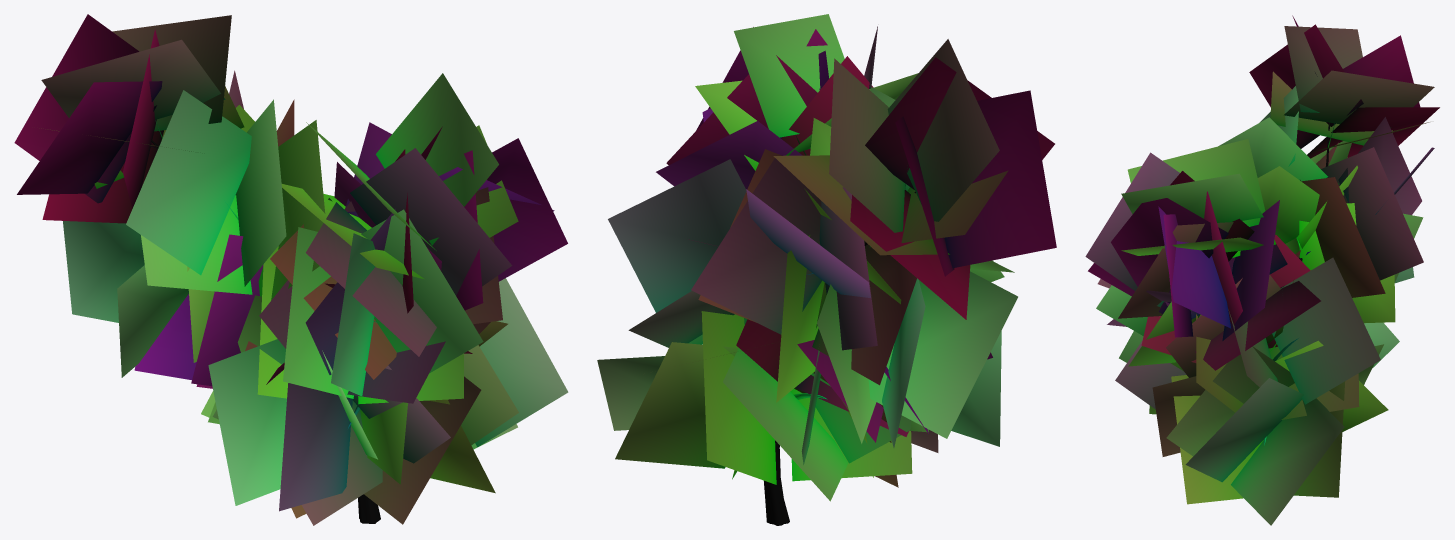
Rendered from M_P15_Tree_7.fbx.
The picture shows the model from 3 angles, left to right: view 1: azimuth 30°, elevation 25°; view 2: azimuth 150°, elevation 25°; view 3: azimuth 270°, elevation 25°; orthographic projection. The views are drawn at different scales.
Parts seen in each view (by area): view 1: Tree_7; view 2: Tree_7; view 3: Tree_7.
Part boxes in pixels (x1,y1,x2,y2): Tree_7: (14,14,568,525); Tree_7: (597,14,1056,525); Tree_7: (1085,15,1439,525).
Bounding box in the file's own units: 658 × 698 × 544.
